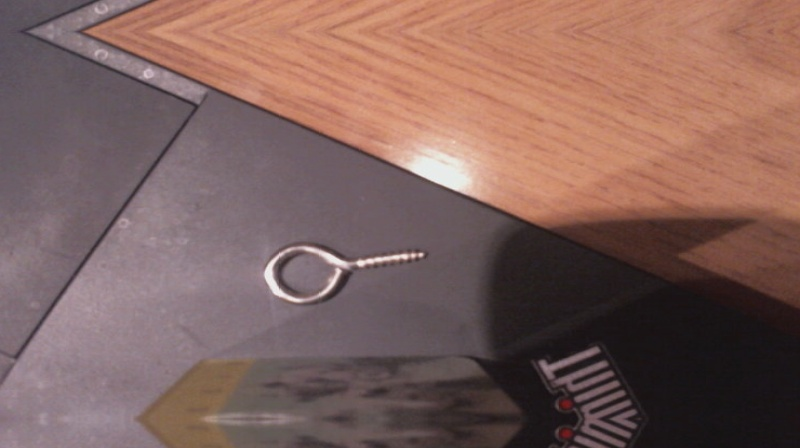O001: (257, 240, 426, 306)
